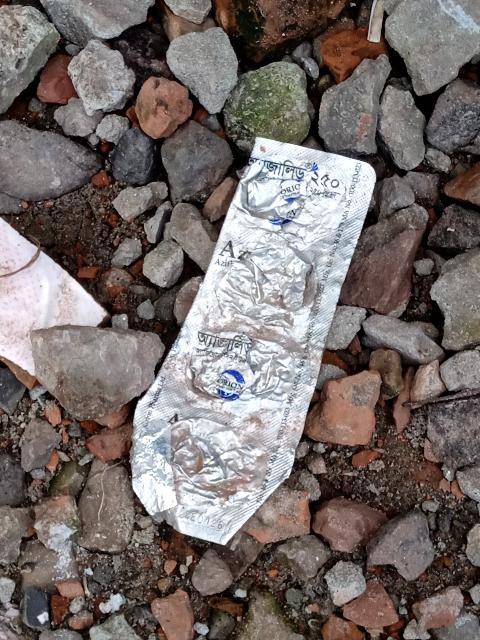medicine: (112, 123, 388, 559)
